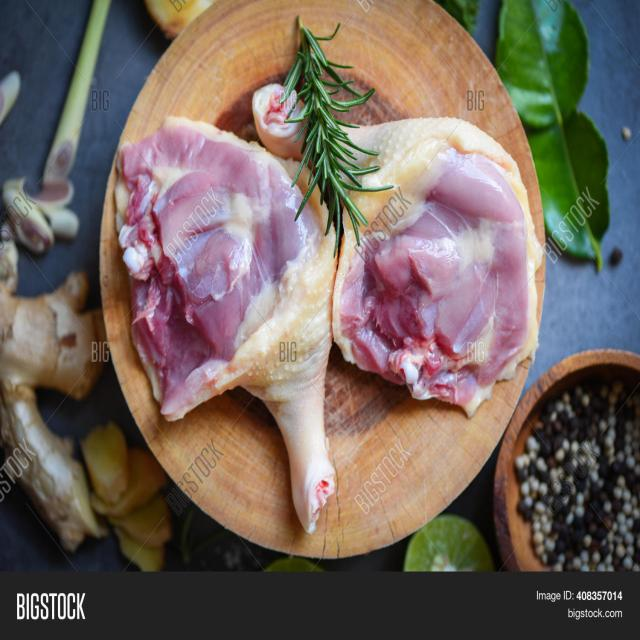duck: (120, 0, 545, 246)
